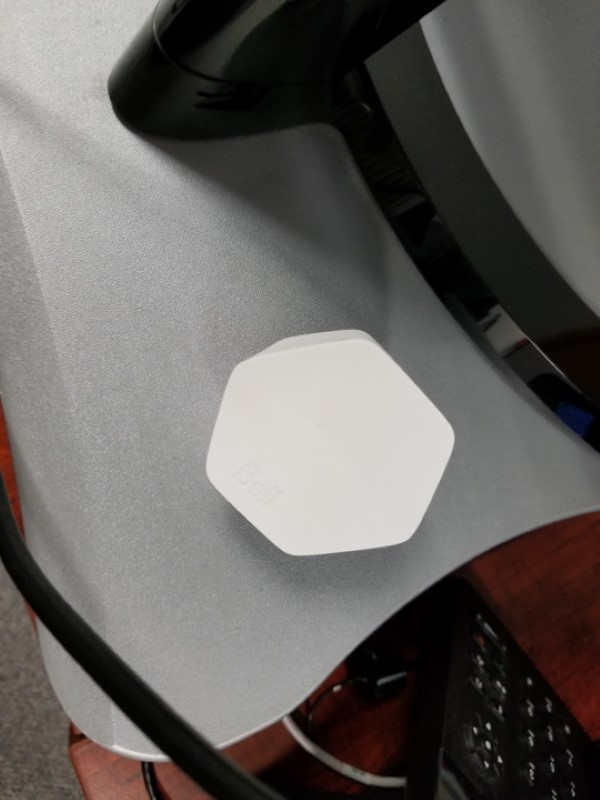pod: (200, 322, 462, 561)
